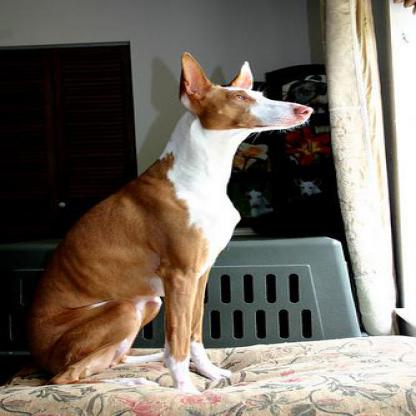dog: (41, 43, 326, 389)
